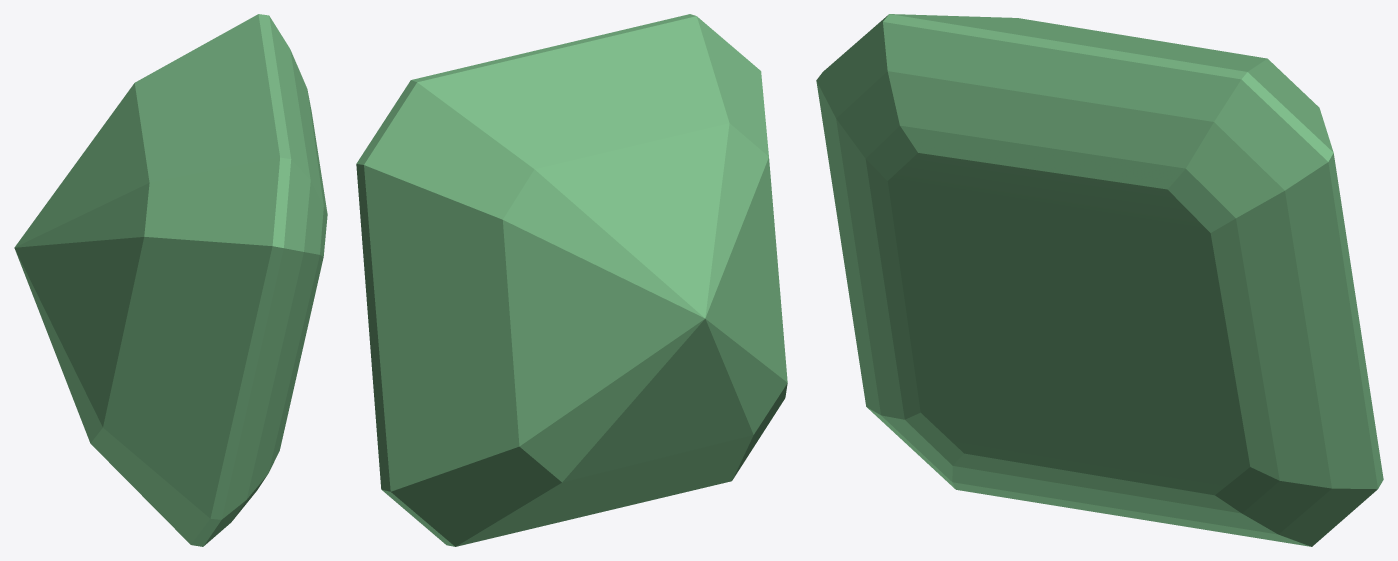
File: TR4_8shapes_Square_Classic_Stone.001 2.glb
3 views of the same model, side by side, from view 1: azimuth 30°, elevation 25°; view 2: azimuth 150°, elevation 25°; view 3: azimuth 270°, elevation 25° (orthographic). The views are drawn at different scales.
Parts seen in each view (by area): view 1: TR4_8shapes_Square_Classic_Stone.001; view 2: TR4_8shapes_Square_Classic_Stone.001; view 3: TR4_8shapes_Square_Classic_Stone.001.
Boxes of the visible parts, bbox=[...] form: TR4_8shapes_Square_Classic_Stone.001: bbox=[14, 14, 327, 546]; TR4_8shapes_Square_Classic_Stone.001: bbox=[356, 14, 787, 546]; TR4_8shapes_Square_Classic_Stone.001: bbox=[816, 14, 1383, 546].
Bounding box in the file's own units: 0.3499 × 0.4722 × 0.4637.
